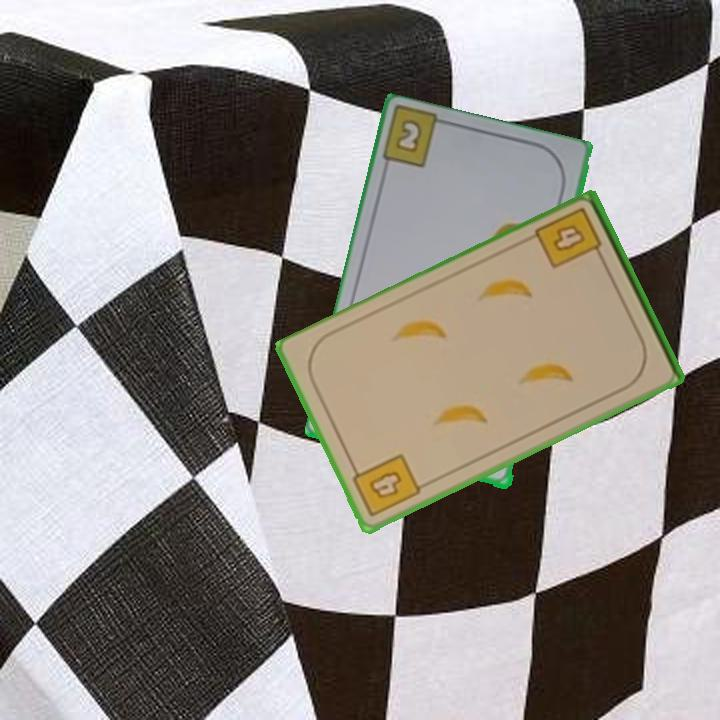2b: (392, 116, 426, 157)
4b: (347, 450, 424, 520), (532, 204, 608, 272)
